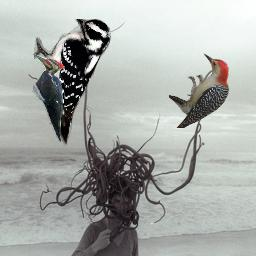Woodpecker: (34, 19, 111, 148), (169, 53, 231, 128), (31, 53, 65, 142)
